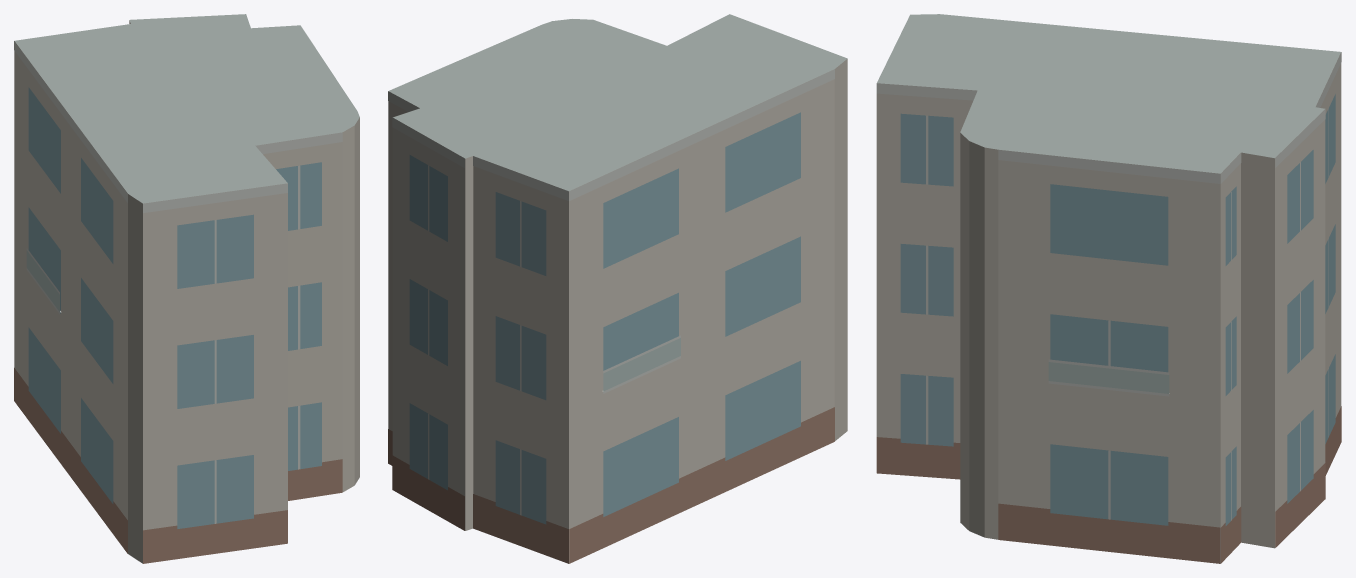
File: survey-upis-32992266.glb
3 views of the same model, side by side, from view 1: azimuth 30°, elevation 25°; view 2: azimuth 150°, elevation 25°; view 3: azimuth 270°, elevation 25° (orthographic). The views are drawn at different scales.
Visible parts, largest first — view 1: survey-upis-32992266.tmp; view 2: survey-upis-32992266.tmp; view 3: survey-upis-32992266.tmp.
Part boxes in pixels (x1,y1,x2,y2): survey-upis-32992266.tmp: (14, 14, 359, 563); survey-upis-32992266.tmp: (388, 14, 847, 563); survey-upis-32992266.tmp: (876, 14, 1341, 563).
Size of the model in its own units: 8.04 by 9.15 by 9.89.
